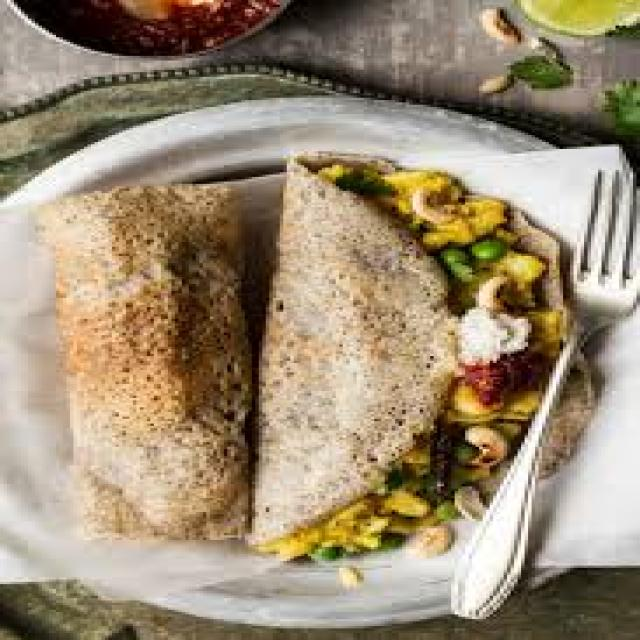DOSA: (241, 153, 565, 567), (44, 183, 246, 543)
